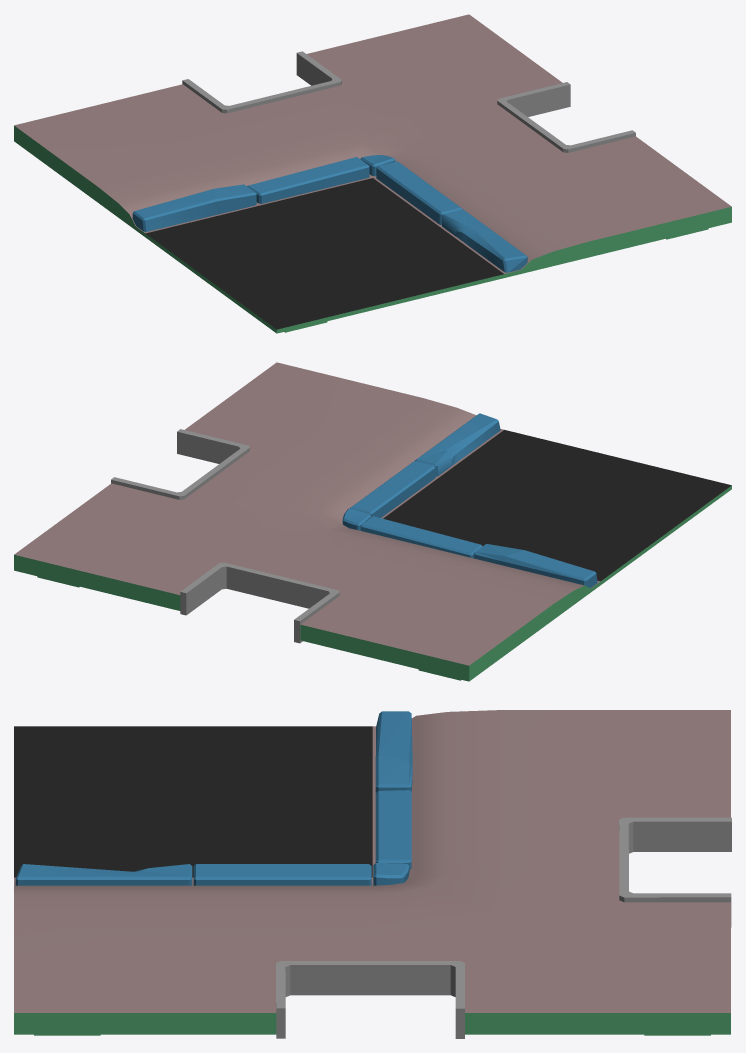
Rendered from sidewalk corn in parted B lod0.FBX.
3 views of the same model, one above another, from view 1: azimuth 30°, elevation 25°; view 2: azimuth 150°, elevation 25°; view 3: azimuth 270°, elevation 25° (orthographic). The views are drawn at different scales.
Visible parts, largest first — view 1: Plane050, Group045, Line037; view 2: Plane050, Group045, Line037; view 3: Plane050, Group045, Line037.
Boxes of the visible parts, x1,y1,x2,y2 form: Plane050: (14, 14, 731, 277); Group045: (145, 178, 504, 333); Line037: (182, 51, 635, 152); Plane050: (14, 362, 600, 681); Group045: (383, 430, 731, 584); Line037: (111, 429, 339, 643); Plane050: (14, 710, 730, 1035); Group045: (14, 726, 372, 877); Line037: (276, 817, 731, 1038).
Size of the model in its own units: 3 by 0.2374 by 3.
